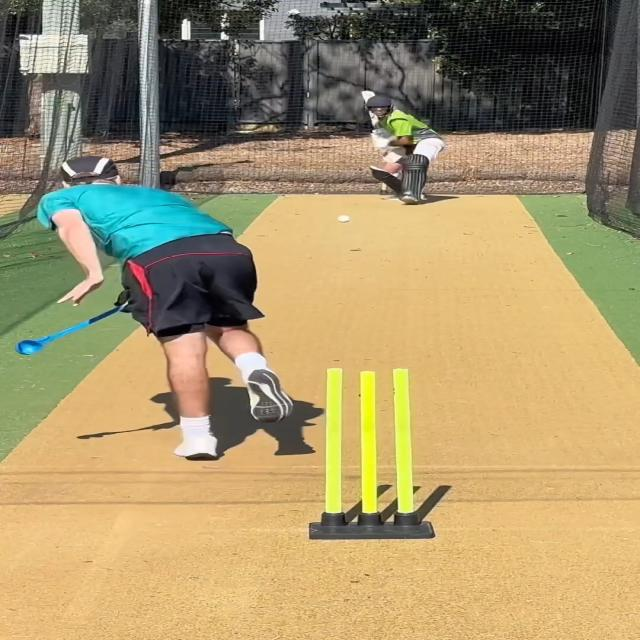ball: (335, 214, 353, 224)
stump: (307, 368, 437, 540)
